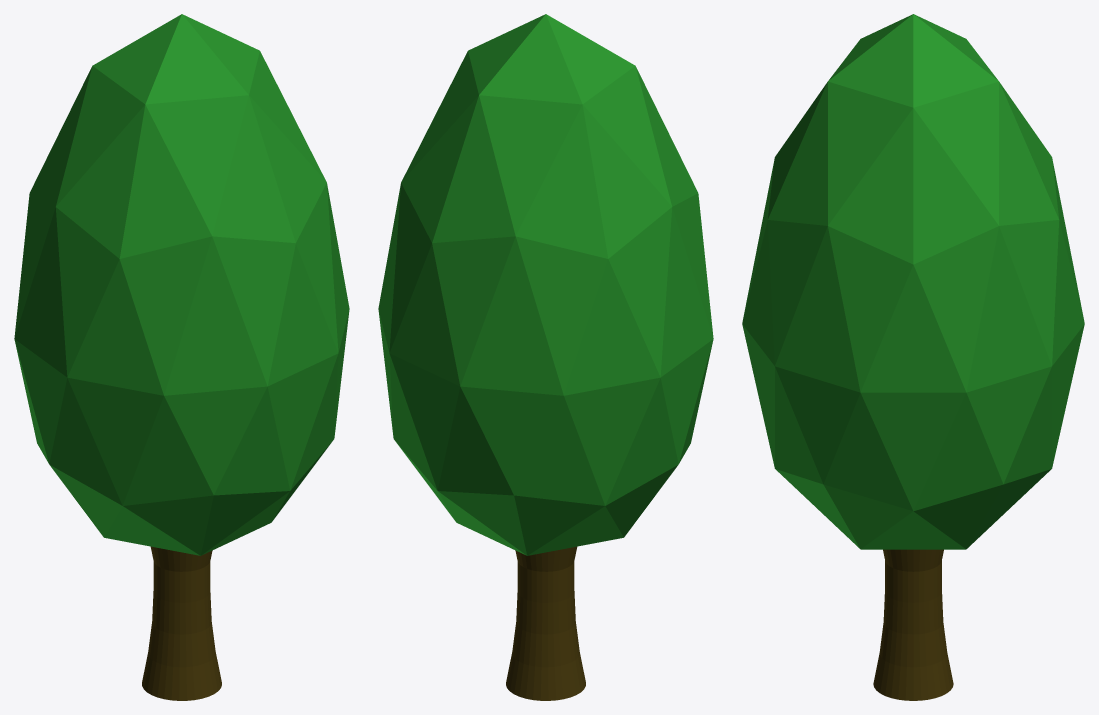
The model's file is Tree1.fbx.
The picture shows the model from 3 angles, left to right: view 1: azimuth 30°, elevation 25°; view 2: azimuth 150°, elevation 25°; view 3: azimuth 270°, elevation 25°; orthographic projection.
Visible parts, largest first — view 1: Tree; view 2: Tree; view 3: Tree.
Boxes of the visible parts, x1,y1,x2,y2 form: Tree: (14, 14, 349, 700); Tree: (378, 14, 713, 700); Tree: (742, 14, 1084, 700).
Size of the model in its own units: 220 by 500 by 232.
